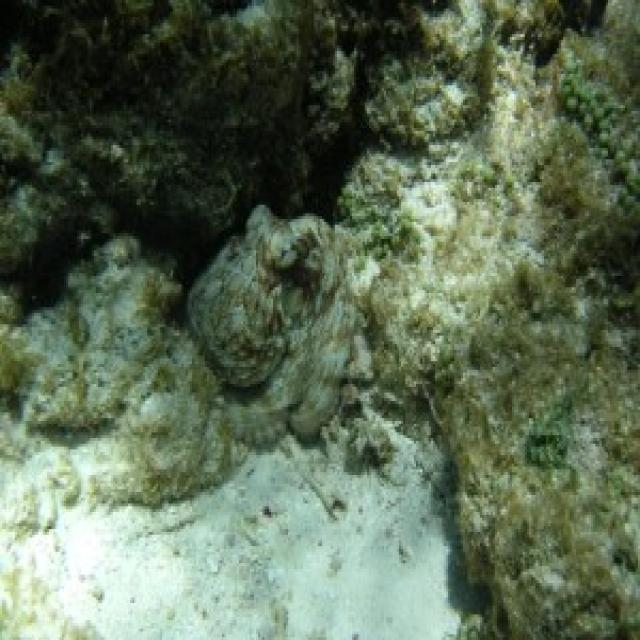Octo: (188, 200, 381, 456)
